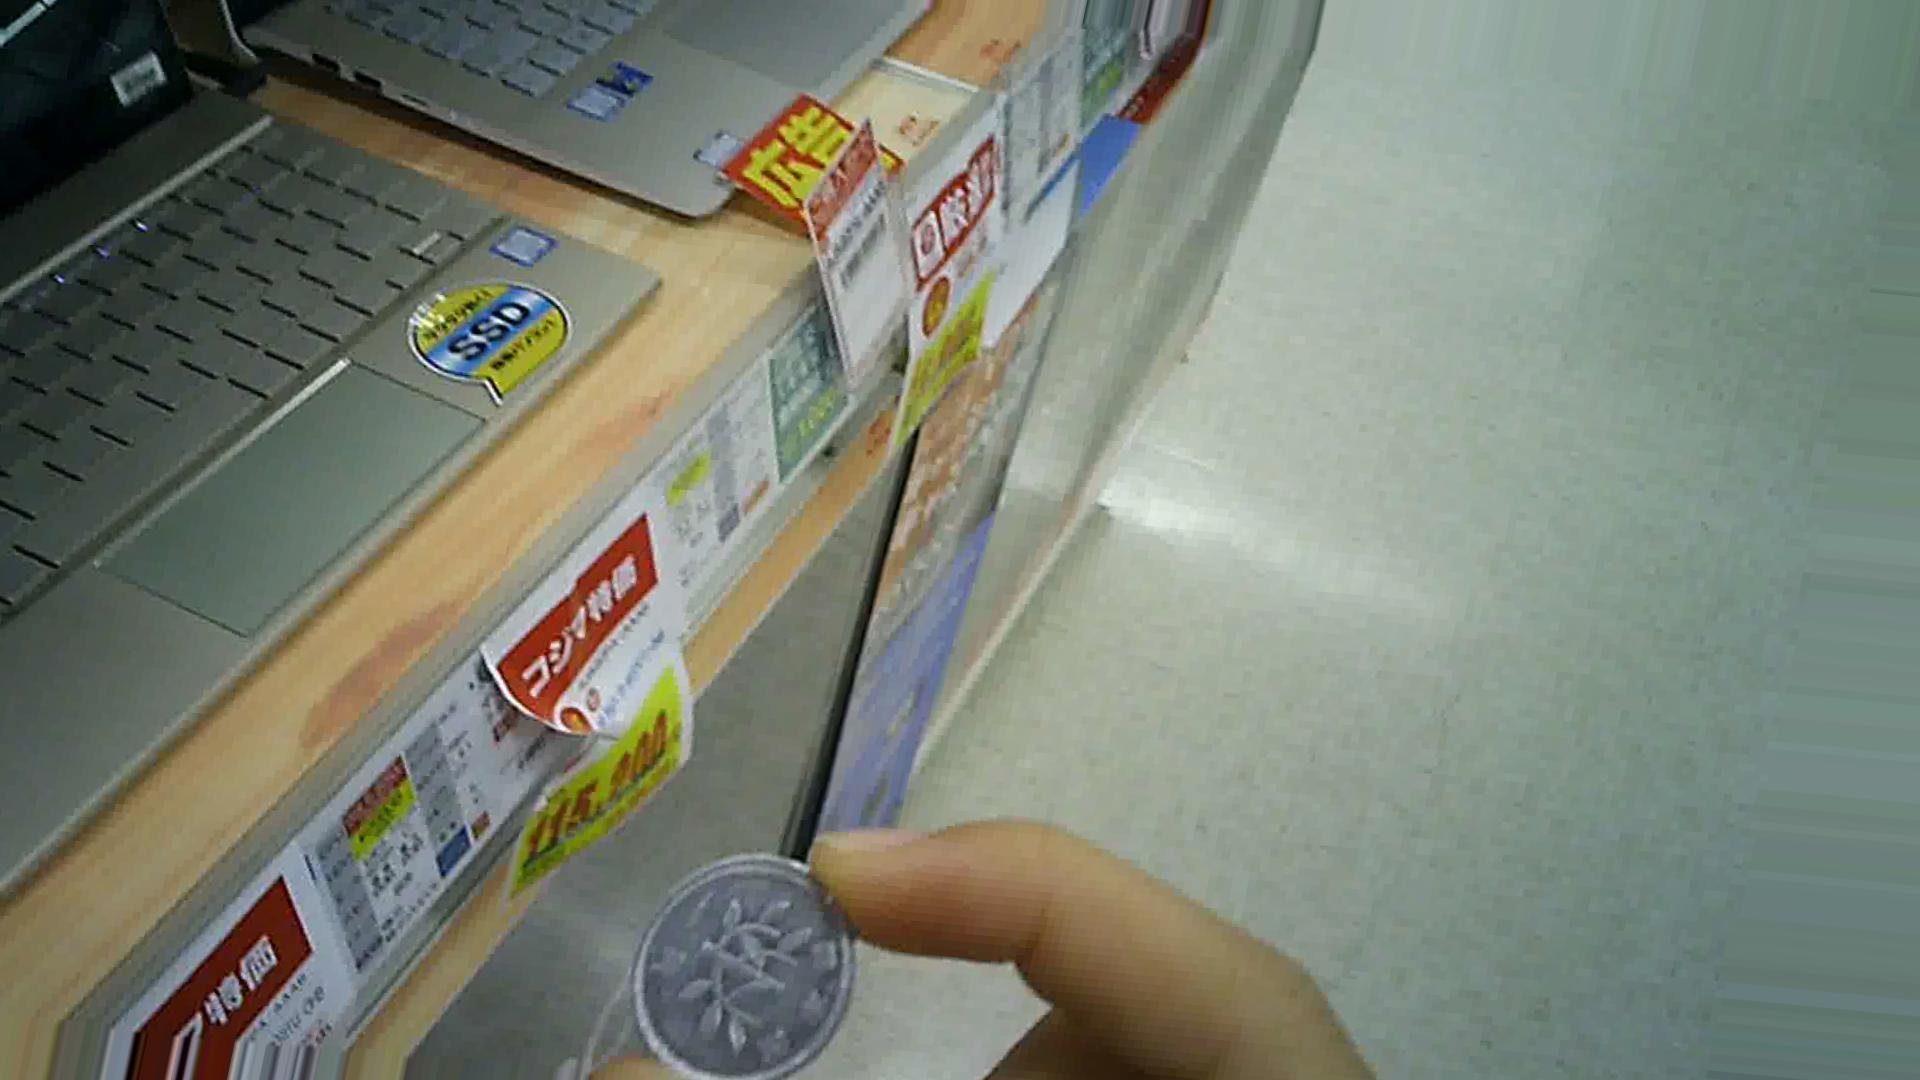1 Yen: (600, 849, 872, 1079)
